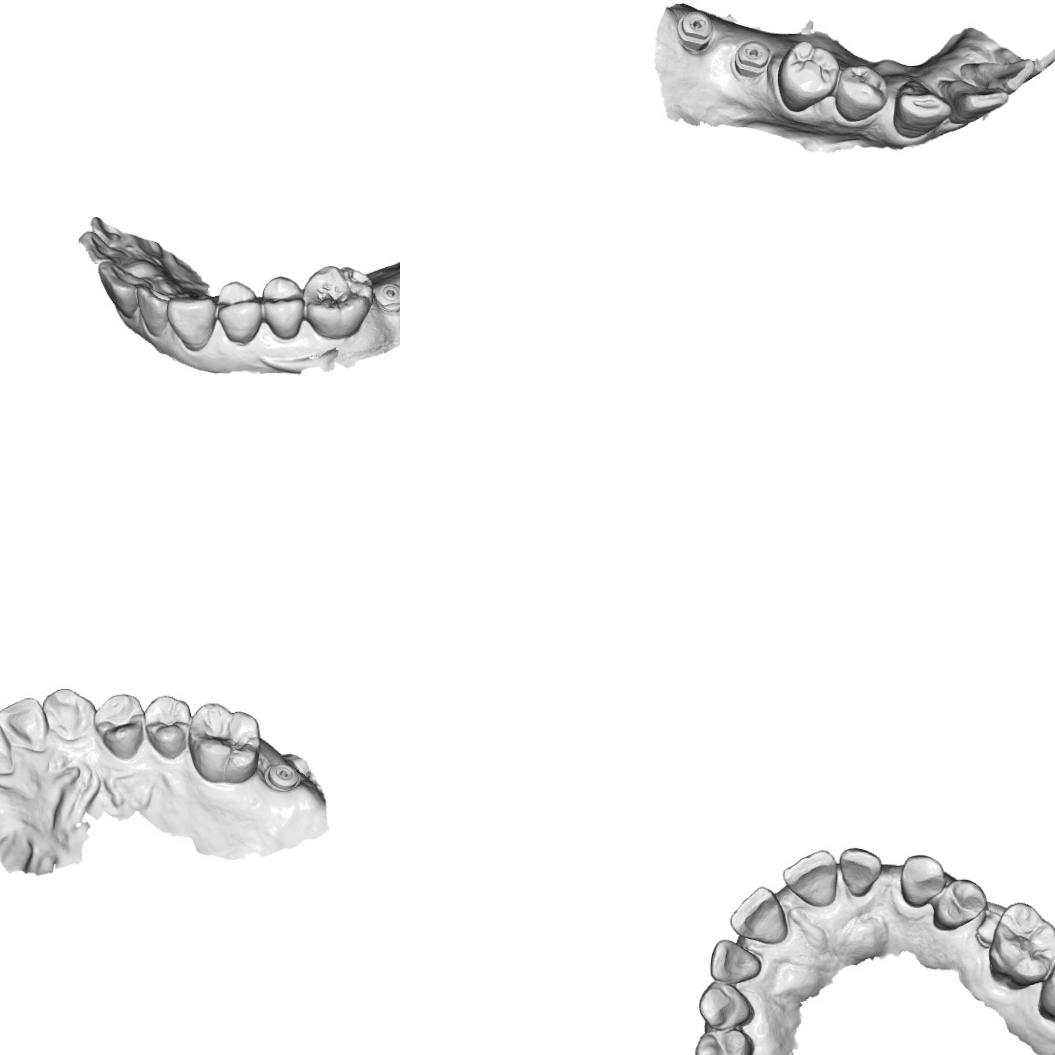canine: (893, 77, 953, 141), (164, 293, 218, 352), (40, 686, 96, 742), (696, 978, 756, 1028), (900, 852, 946, 910)
implant: (261, 762, 302, 792), (371, 279, 400, 316)
implant_minus: (674, 8, 714, 55), (730, 37, 773, 80)
incisor: (727, 884, 790, 946), (937, 75, 1010, 126), (780, 846, 839, 908), (97, 260, 154, 321), (958, 55, 1036, 95), (0, 694, 49, 754), (708, 938, 762, 985), (838, 846, 884, 898), (133, 282, 171, 340), (78, 230, 128, 265), (0, 712, 15, 776)
molar: (186, 700, 264, 786), (987, 901, 1055, 992), (300, 263, 375, 341), (1038, 944, 1055, 1028)
premolar: (776, 39, 839, 114), (92, 691, 147, 763), (142, 692, 194, 761), (212, 279, 264, 346), (832, 64, 890, 124), (260, 274, 309, 342), (930, 877, 988, 933), (691, 1025, 755, 1055)
